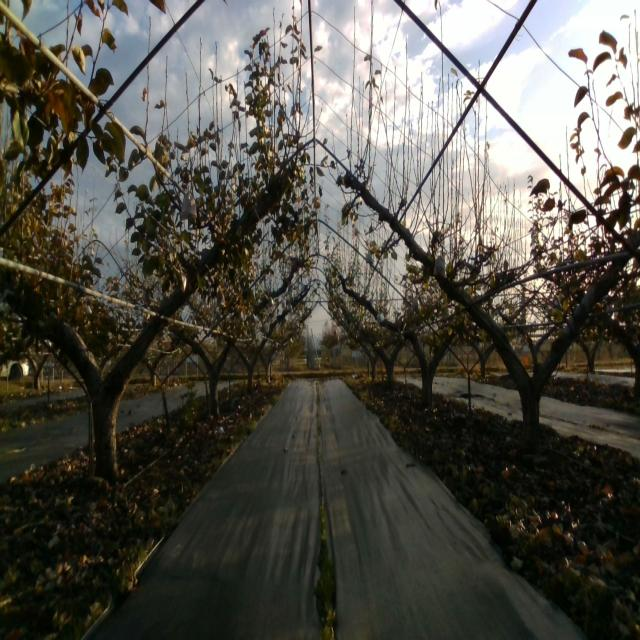pearbags: (180, 187, 198, 221), (433, 252, 447, 280)
